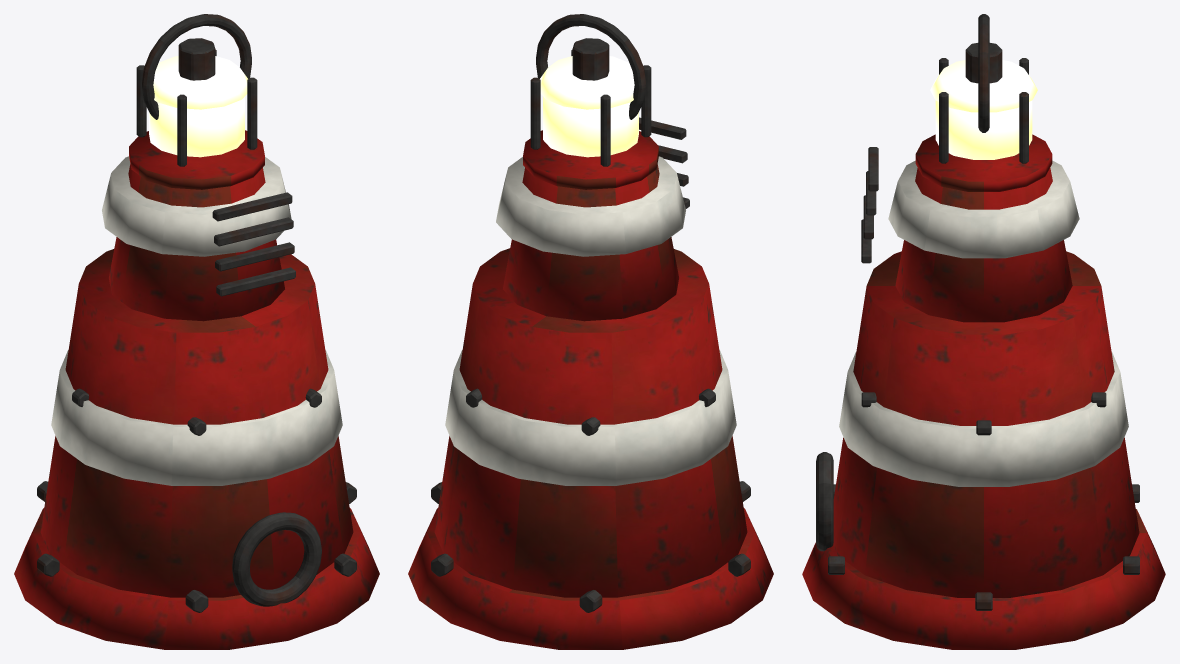
The model's file is buoy_fallback.glb.
3 renders of one model, left to right at view 1: azimuth 30°, elevation 25°; view 2: azimuth 150°, elevation 25°; view 3: azimuth 270°, elevation 25°, orthographic.
Visible parts, largest first — view 1: buoy_paint, buoy_white, buoy_iron, buoy_lamp; view 2: buoy_paint, buoy_white, buoy_iron, buoy_lamp; view 3: buoy_paint, buoy_white, buoy_iron, buoy_lamp.
Part boxes in pixels (x1,y1,x2,y2): buoy_paint: [14, 130, 379, 649]; buoy_white: [51, 156, 342, 485]; buoy_iron: [37, 14, 356, 612]; buoy_lamp: [149, 56, 247, 157]; buoy_paint: [408, 130, 773, 649]; buoy_white: [445, 156, 736, 485]; buoy_iron: [431, 14, 750, 612]; buoy_lamp: [540, 56, 638, 157]; buoy_paint: [802, 134, 1165, 649]; buoy_white: [839, 160, 1128, 486]; buoy_iron: [816, 14, 1139, 610]; buoy_lamp: [930, 60, 1037, 159].
Bounding box in the file's own units: 1.9 × 3.27 × 1.92.
Materials: 4 (3 with a texture image).
